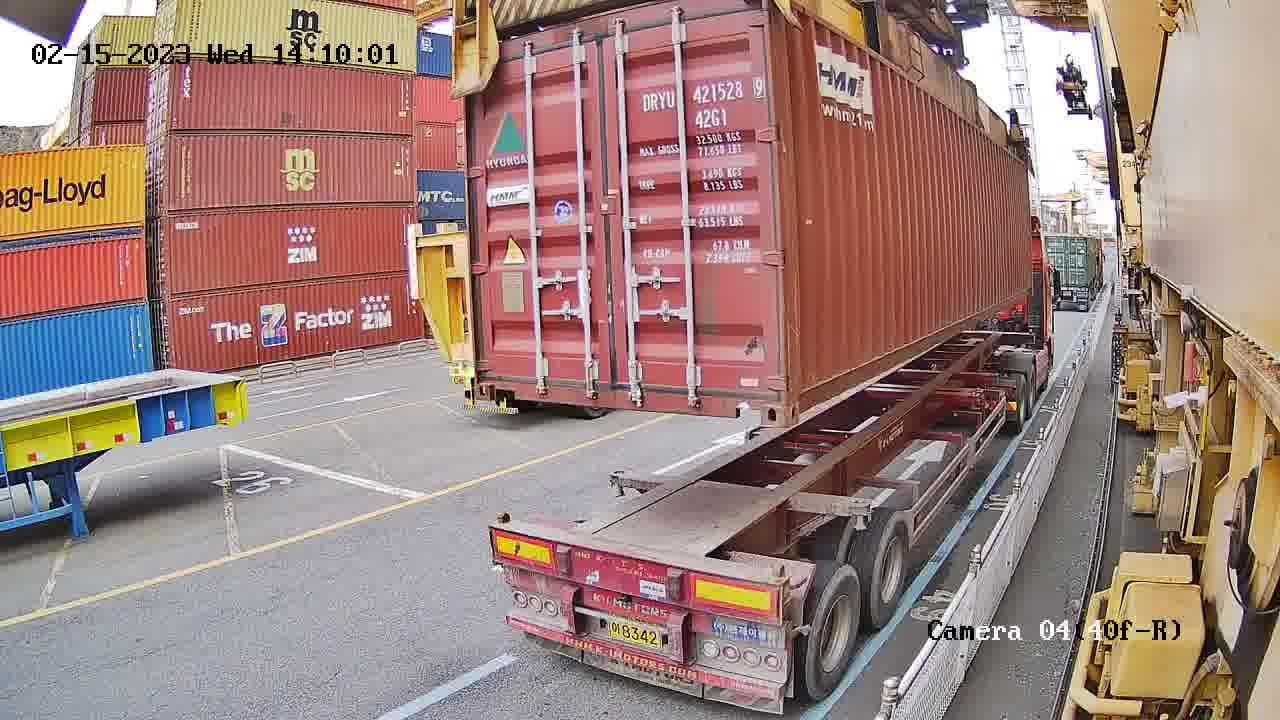Chassis: (489, 523, 784, 627)
Cone: (763, 556, 788, 585), (492, 508, 515, 527)
Hole_L: (786, 353, 831, 427), (474, 343, 518, 400)
Hole_R: (728, 360, 788, 427)
Tire: (807, 567, 864, 697), (871, 514, 914, 620)
